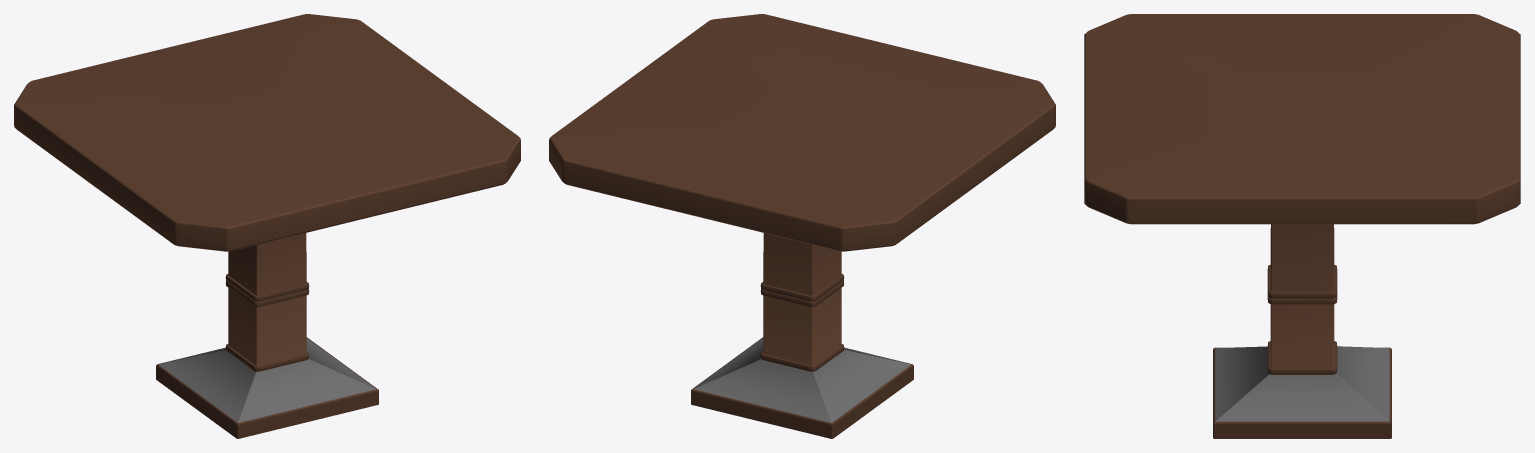
The model's file is Table_v1.fbx.
3 views of the same model, side by side, from view 1: azimuth 30°, elevation 25°; view 2: azimuth 150°, elevation 25°; view 3: azimuth 270°, elevation 25° (orthographic). The views are drawn at different scales.
Visible parts, largest first — view 1: Table01:table_top, Table01:Table_Leg, Table01:deco9, Table01:deco8, Table01:deco11; view 2: Table01:table_top, Table01:Table_Leg, Table01:deco9, Table01:deco8, Table01:deco11; view 3: Table01:table_top, Table01:Table_Leg, Table01:deco8, Table01:deco9, Table01:deco11.
Boxes of the visible parts, left/top/right/bottom form: Table01:table_top: left=14, top=14, right=520, bottom=251; Table01:Table_Leg: left=156, top=233, right=378, bottom=438; Table01:deco9: left=225, top=274, right=309, bottom=301; Table01:deco8: left=225, top=344, right=309, bottom=371; Table01:deco11: left=225, top=280, right=309, bottom=307; Table01:table_top: left=549, top=14, right=1055, bottom=251; Table01:Table_Leg: left=691, top=233, right=913, bottom=438; Table01:deco9: left=760, top=274, right=844, bottom=301; Table01:deco8: left=760, top=344, right=844, bottom=371; Table01:deco11: left=760, top=280, right=844, bottom=307; Table01:table_top: left=1084, top=14, right=1520, bottom=224; Table01:Table_Leg: left=1213, top=224, right=1391, bottom=438; Table01:deco8: left=1267, top=341, right=1337, bottom=374; Table01:deco9: left=1267, top=265, right=1337, bottom=298; Table01:deco11: left=1267, top=294, right=1337, bottom=304.
Bounding box in the file's own units: 107 × 80.11 × 107.
